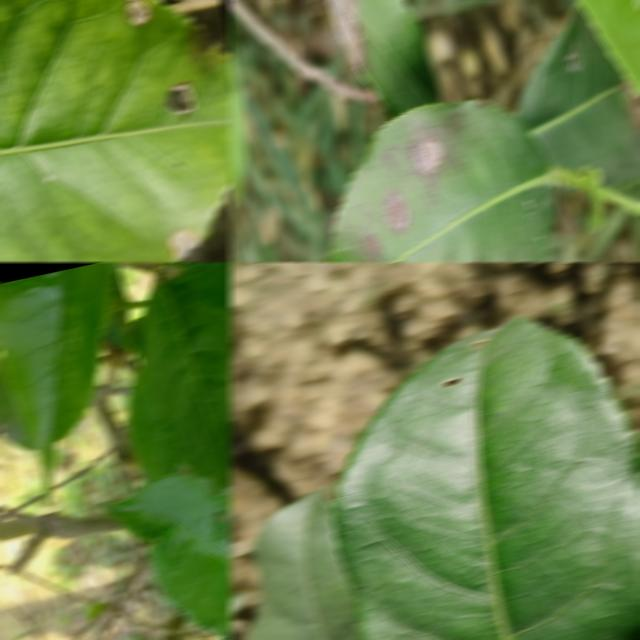Leaf: (331, 316, 640, 640), (0, 0, 232, 262), (328, 100, 557, 262), (0, 262, 119, 501), (515, 4, 640, 188), (100, 474, 232, 639), (142, 276, 232, 490), (247, 488, 361, 640), (326, 0, 441, 116), (127, 364, 179, 478), (0, 360, 36, 449), (228, 44, 247, 202)
